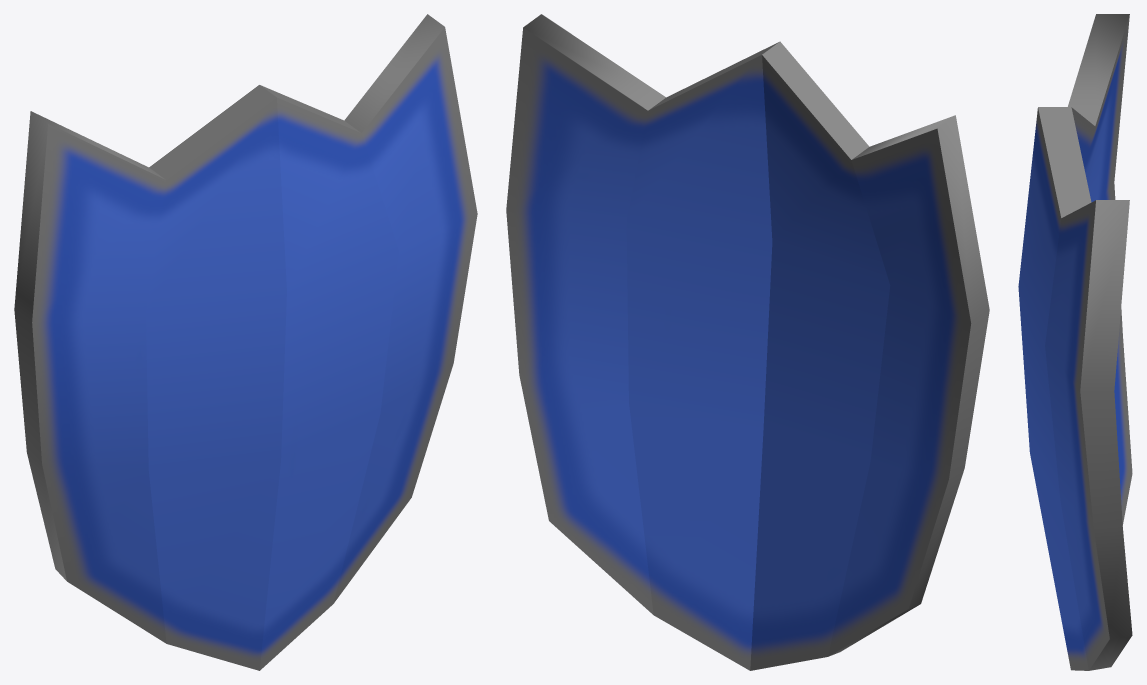
The model's file is Shield Buff.fbx.
3 views of the same model, side by side, from view 1: azimuth 30°, elevation 25°; view 2: azimuth 150°, elevation 25°; view 3: azimuth 270°, elevation 25° (orthographic). The views are drawn at different scales.
Visible parts, largest first — view 1: Shield; view 2: Shield; view 3: Shield.
Boxes of the visible parts, left/top/right/bottom form: Shield: left=14, top=14, right=477, bottom=670; Shield: left=506, top=14, right=989, bottom=670; Shield: left=1018, top=14, right=1132, bottom=670.
Size of the model in its own units: 107 by 134 by 24.58.
1 material, 1 textured.
